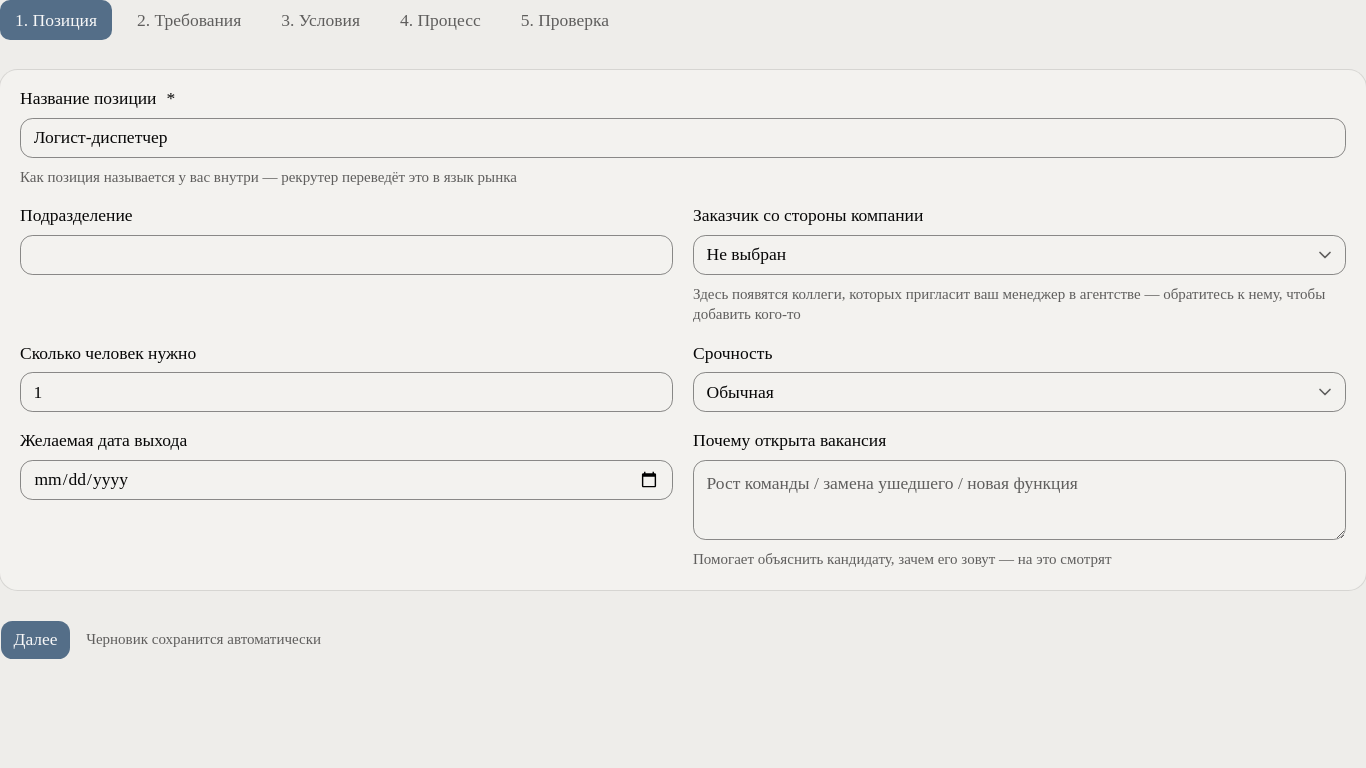
мастер заявки: требования к отправке видны заранее › во время ввода показывает, сколько символов уже набрано
This screenshot has width=1366, height=768.
Click the button "Далее": click(36, 640) [0, 620, 71, 660]
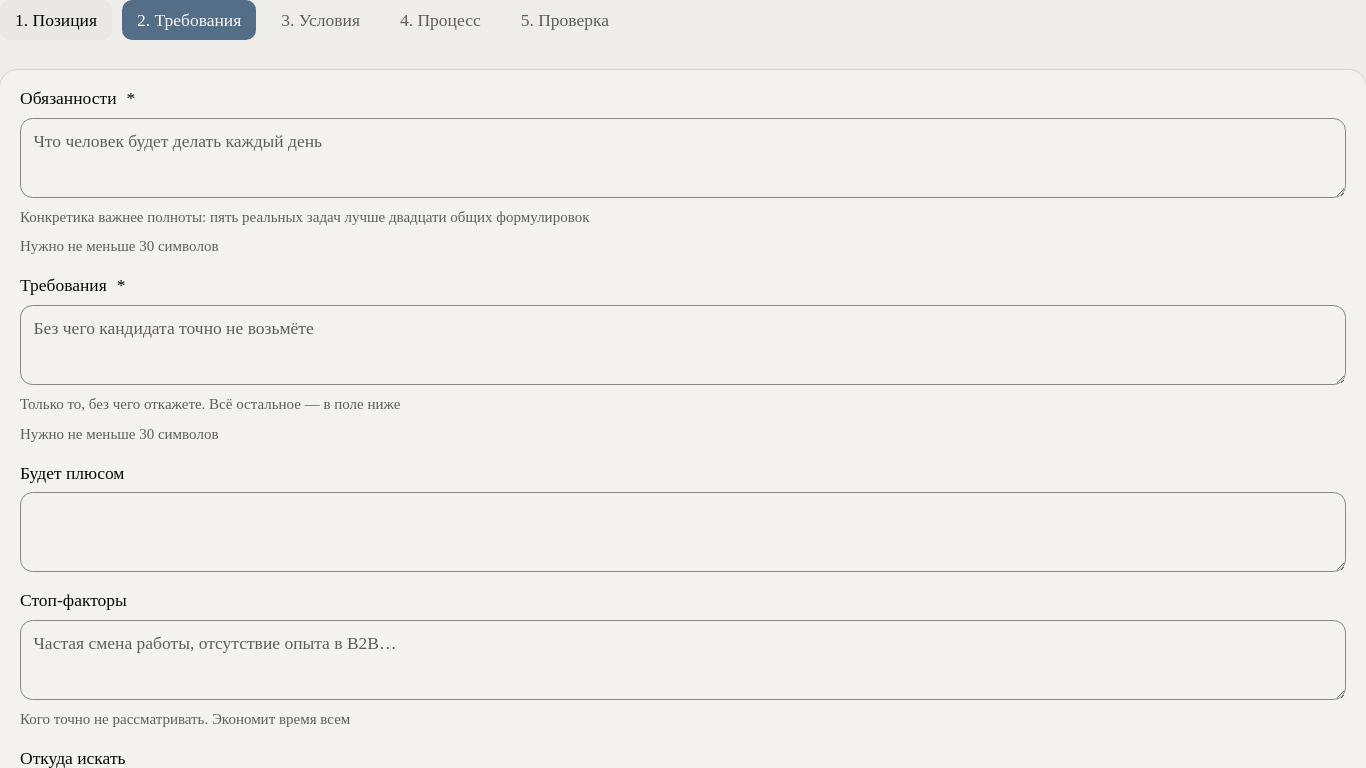
In the text box labelled "Обязанности *": (683, 158) [20, 118, 1346, 198], type "Продажи"
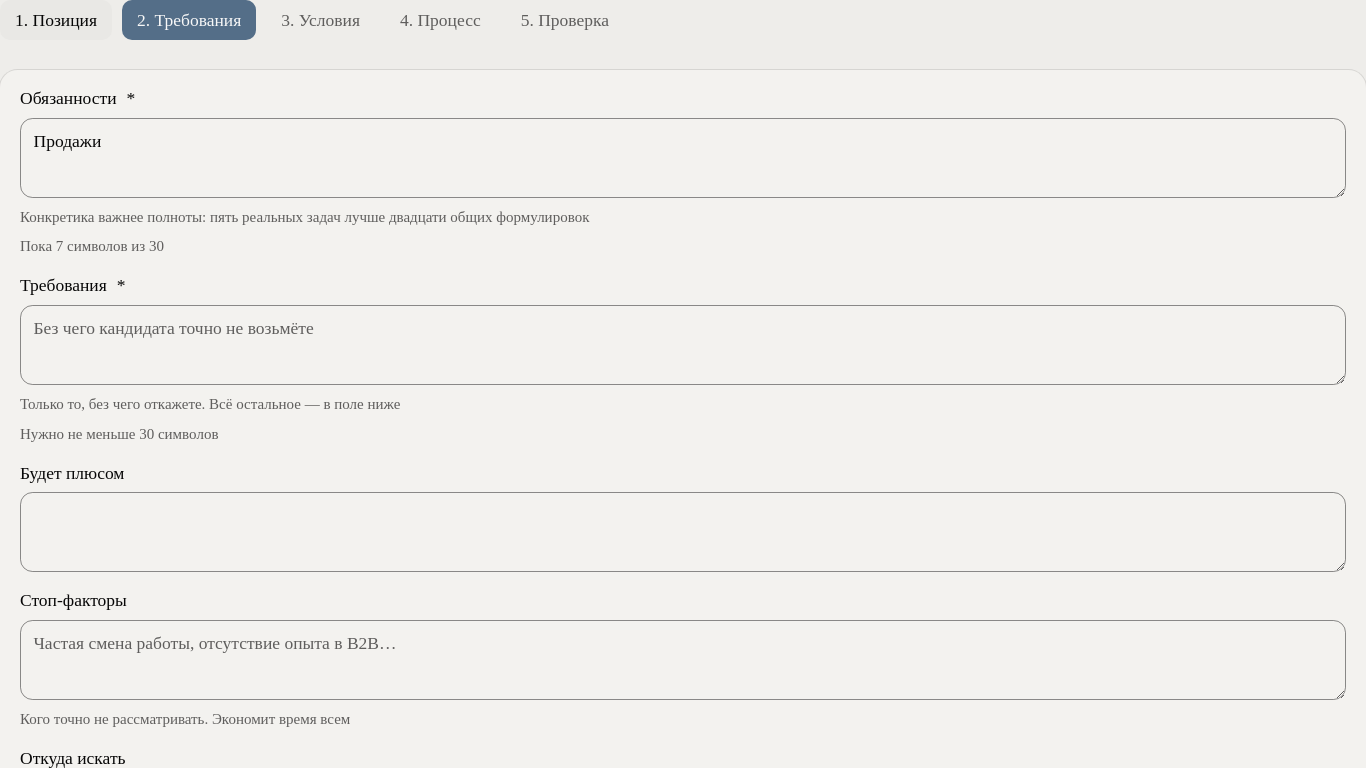
Result: the text "Пока 7 символов из 30" is shown at [20, 238, 164, 254]
